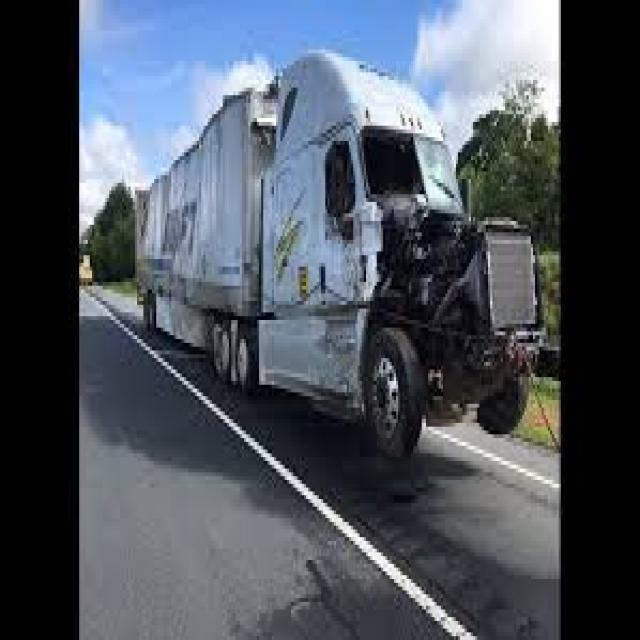accident: (111, 37, 570, 464)
